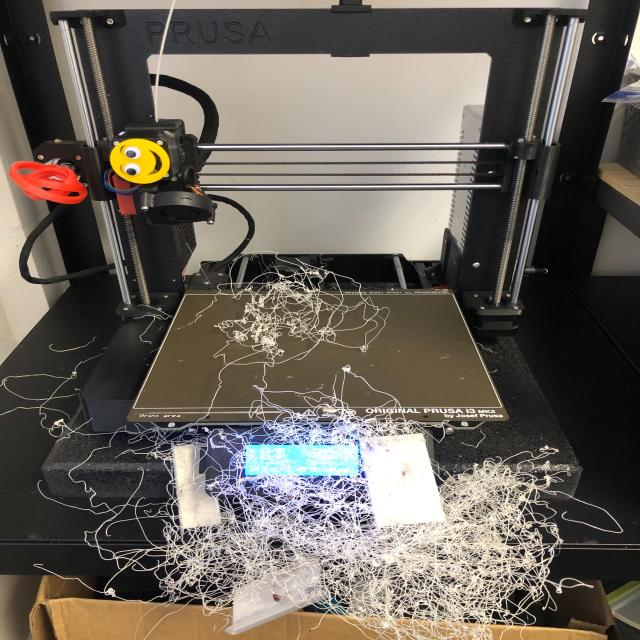spaghetti: (39, 348, 580, 626), (225, 257, 390, 360)
